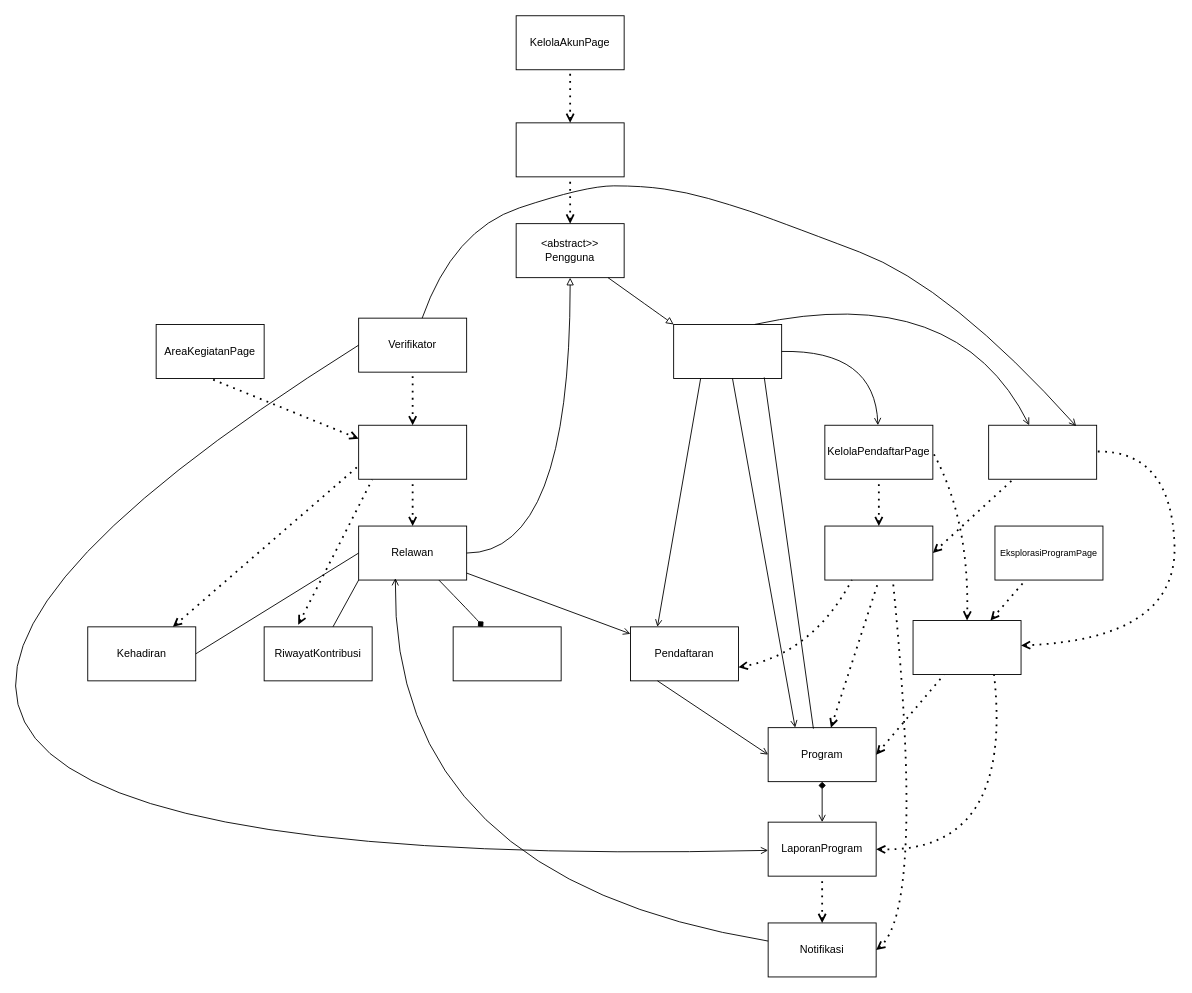
Some shapes in this 1192 by 993 pixel diagram are drawn without their labels. Each missing label, with the centre of its shape:
"AuthController" goes at (x=569, y=149).
"DokumenVerifikasi" goes at (x=506, y=653).
"InisiatorProgram" goes at (x=727, y=351).
"KelolaProgramPage" goes at (x=1042, y=451).
"PresensiController" goes at (x=412, y=451).
"ProgramController" goes at (x=966, y=647).
"SeleksiController" goes at (x=878, y=552).
